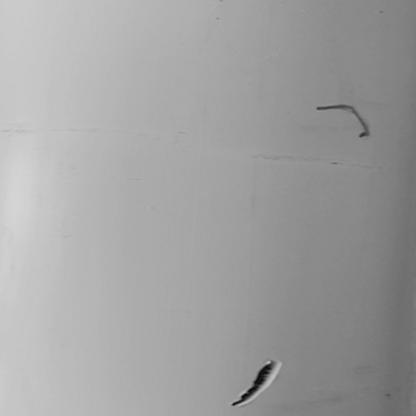fengxi: (315, 101, 369, 139)
kongdong: (214, 357, 294, 405)
